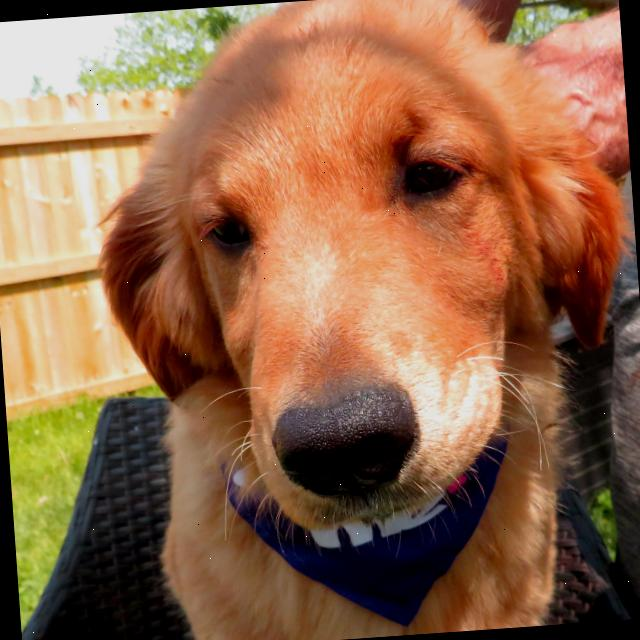golden_retriever_dog: (65, 0, 640, 579)
